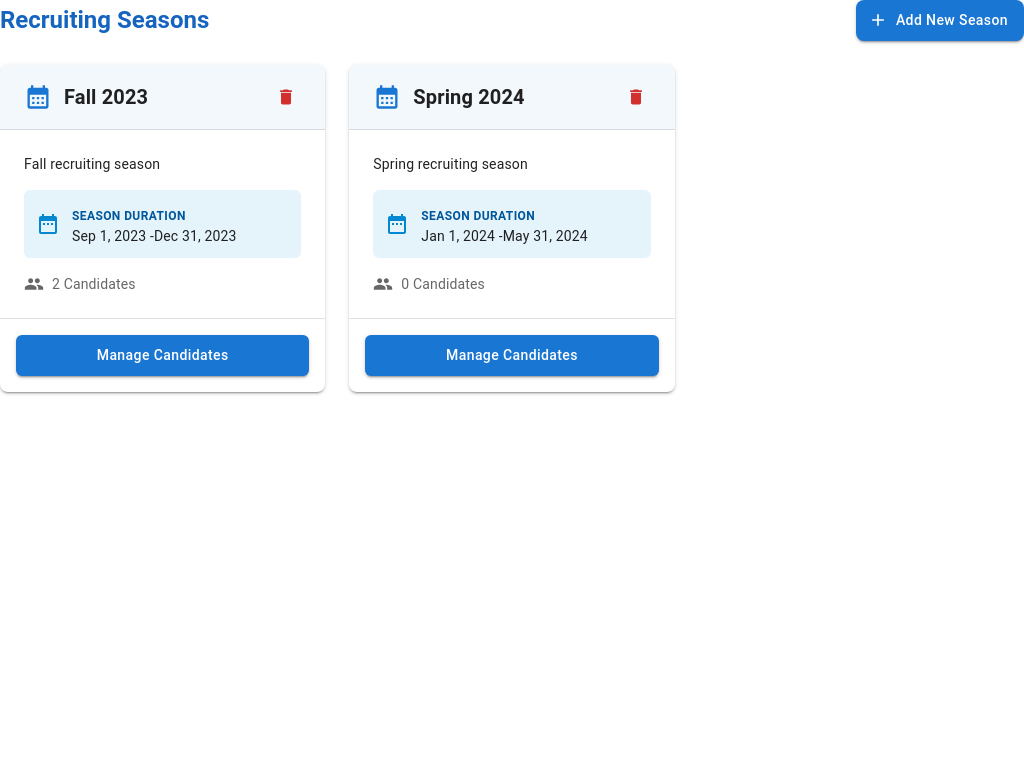
it: RecruitingSeasonManagement › handles season creation
Note: Open dialog
Click the button "Add New Season" at (940, 20), box [856, 0, 1023, 40]
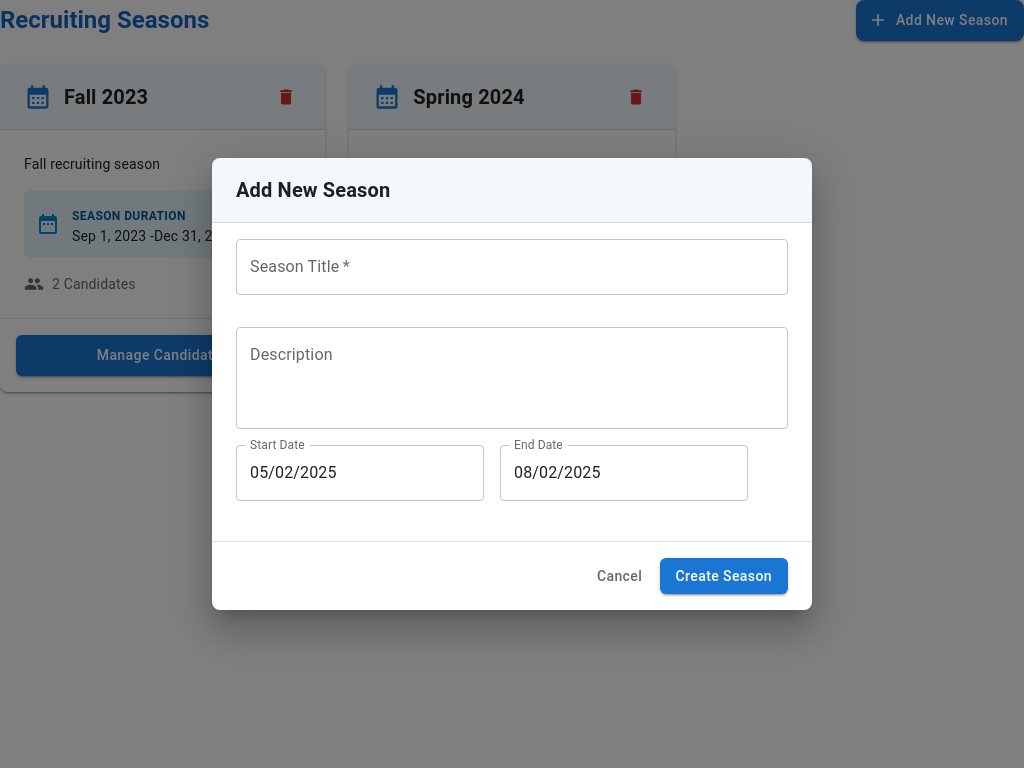
Note: Fill form using more specific selectors
Type "Summer 2024" into the field labelled "Season Title *" at (512, 267), box [236, 239, 788, 295]
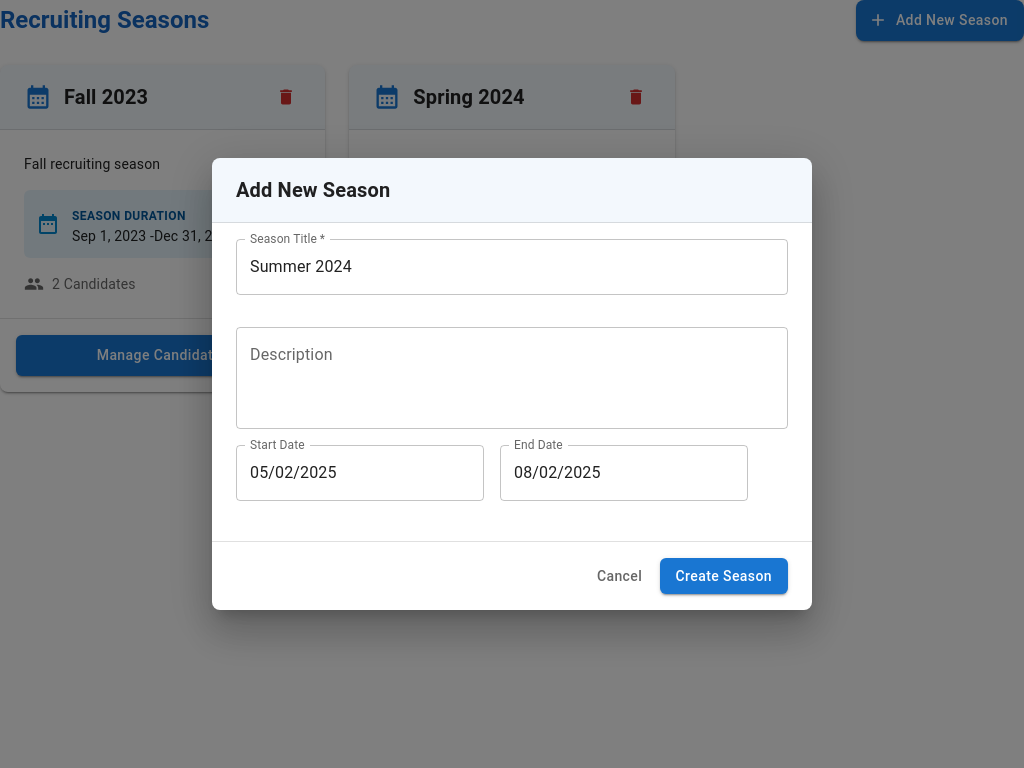
Type "Summer recruiting season" into the text box labelled "Description" at (512, 378), box [250, 343, 774, 412]
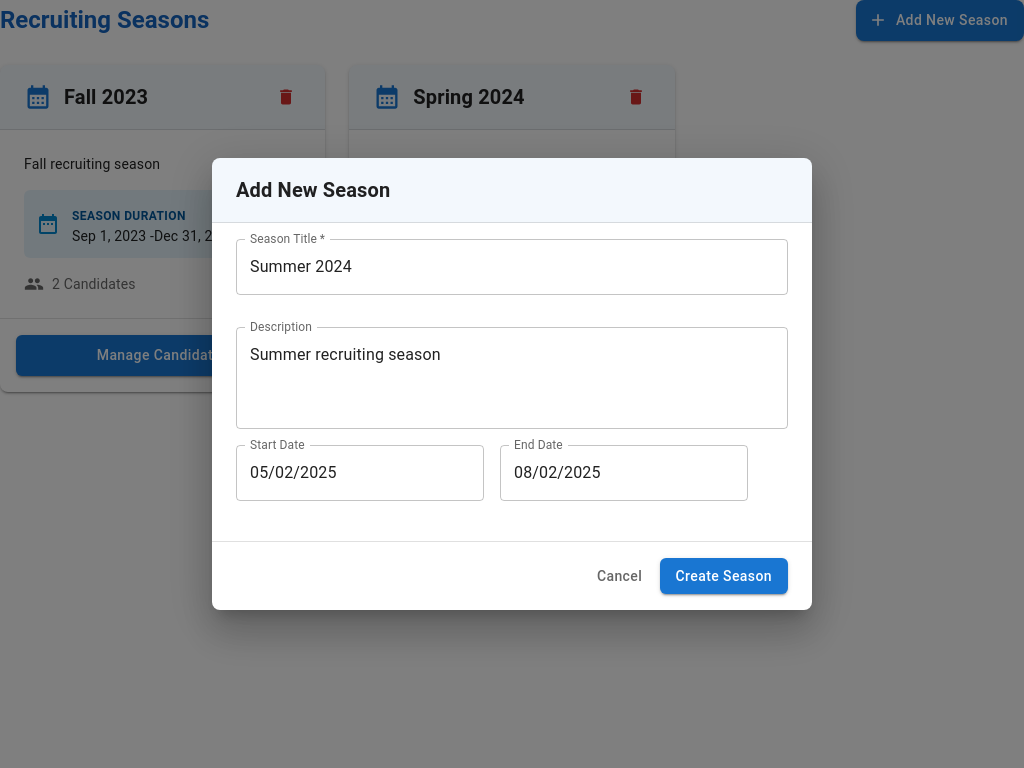
Note: Submit form
Click the button "Create Season" at (724, 576), box [660, 558, 788, 594]
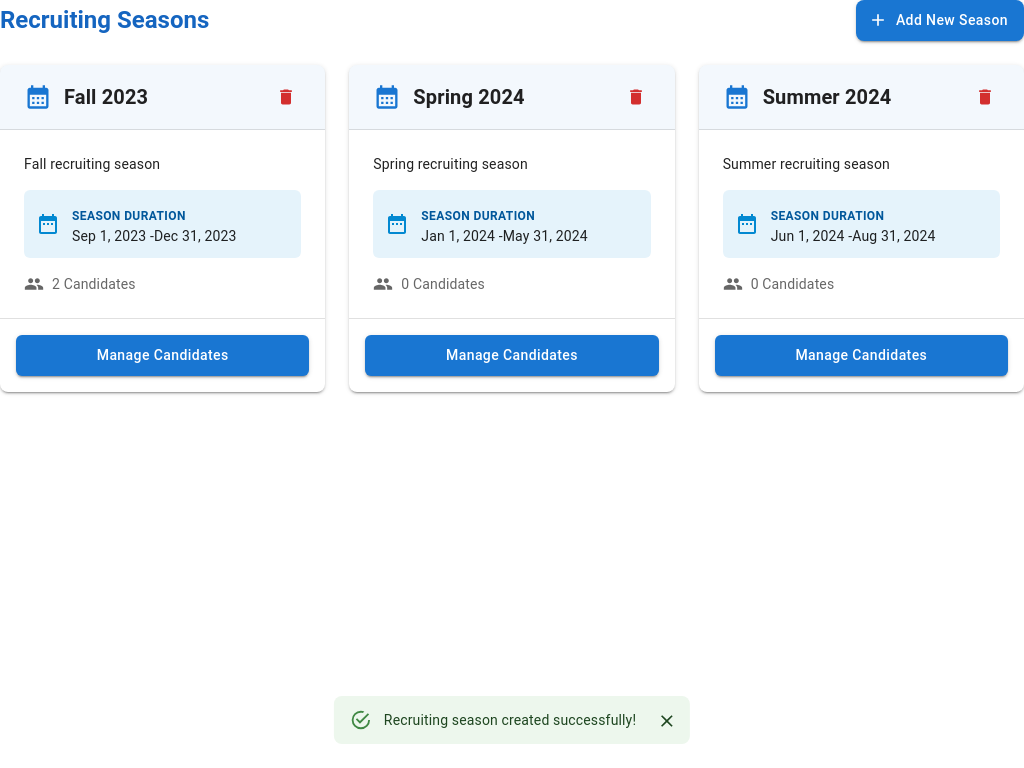
Check: the text "Recruiting season created successfully!" is shown, box [384, 712, 636, 728]
